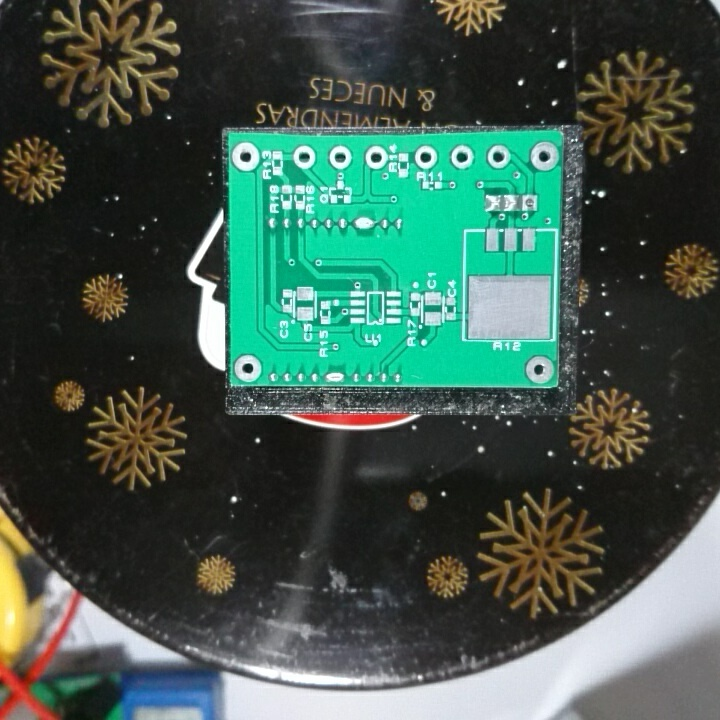F: (230, 139, 262, 174), (529, 140, 561, 173), (522, 354, 553, 388), (232, 351, 262, 386), (325, 142, 353, 172), (413, 142, 439, 174), (447, 142, 475, 171), (291, 143, 319, 172), (362, 141, 387, 172), (486, 143, 511, 169), (521, 192, 541, 214)
P: (350, 213, 376, 236), (321, 366, 348, 388)
